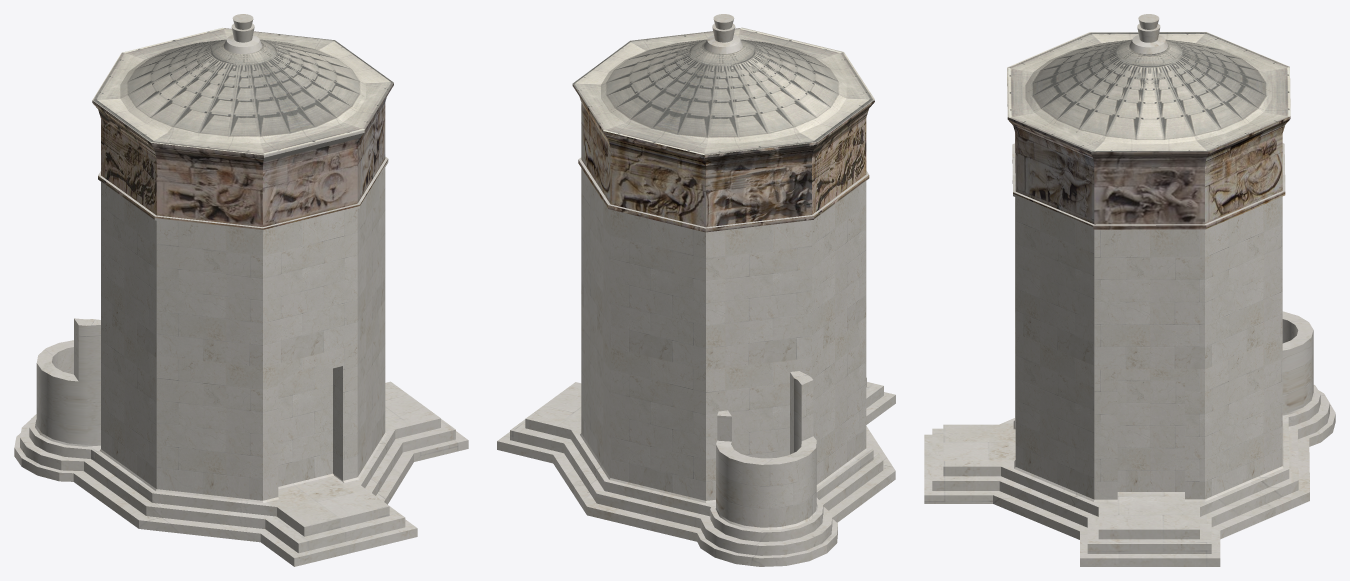
Rendered from aerides.fbx.
The picture shows the model from 3 angles, left to right: view 1: azimuth 30°, elevation 25°; view 2: azimuth 150°, elevation 25°; view 3: azimuth 270°, elevation 25°; orthographic projection.
Visible parts, largest first — view 1: Model; view 2: Model; view 3: Model.
Boxes of the visible parts, x1=… form: Model: x1=14, y1=14, x2=468, y2=566; Model: x1=497, y1=14, x2=895, y2=566; Model: x1=924, y1=14, x2=1335, y2=566.
Bounding box in the file's own units: 14076 × 17197 × 14105.
